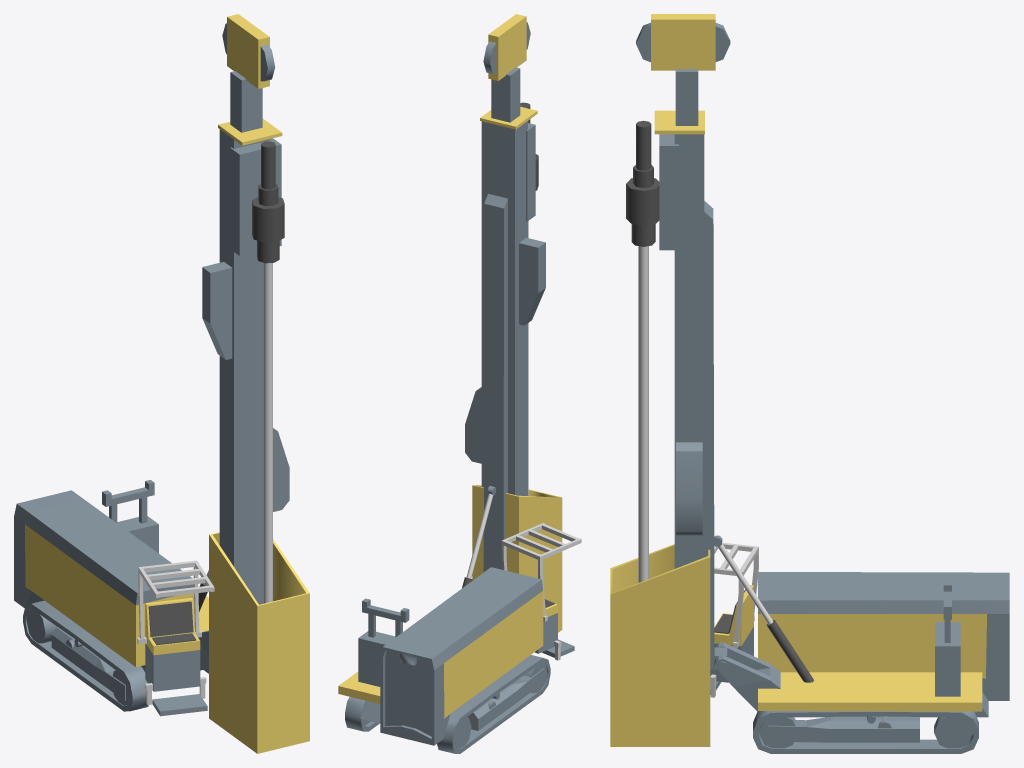
The model's file is Christensen_140_900_v.fbx.
3 renders of one model, left to right at view 1: azimuth 30°, elevation 25°; view 2: azimuth 150°, elevation 25°; view 3: azimuth 270°, elevation 25°, orthographic. The views are drawn at different scales.
Parts seen in each view (by area): view 1: Christensen 140; view 2: Christensen 140; view 3: Christensen 140.
Boxes of the visible parts, bbox=[...] form: Christensen 140: bbox=[14, 14, 309, 753]; Christensen 140: bbox=[338, 14, 581, 753]; Christensen 140: bbox=[610, 14, 1009, 753].
Size of the model in its own units: 236 by 1204 by 598.
